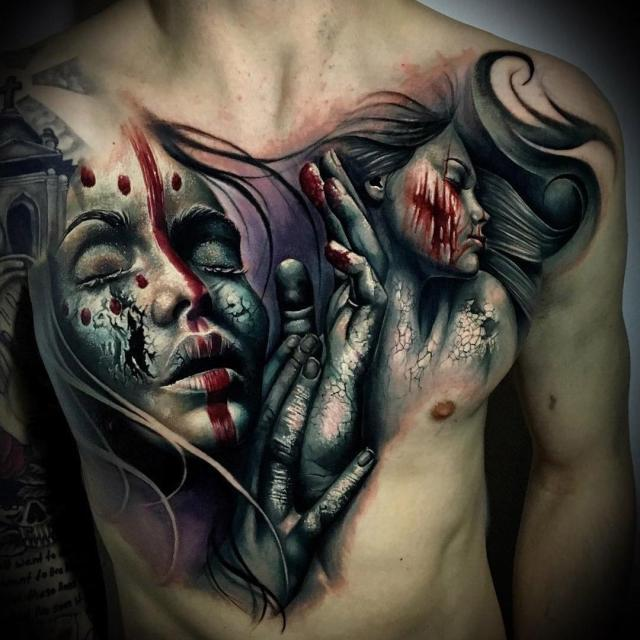flood: (400, 157, 470, 267)
